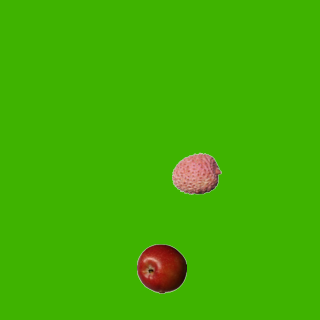Apple Braeburn: (136, 243, 186, 293)
Lychee: (171, 148, 221, 198)
